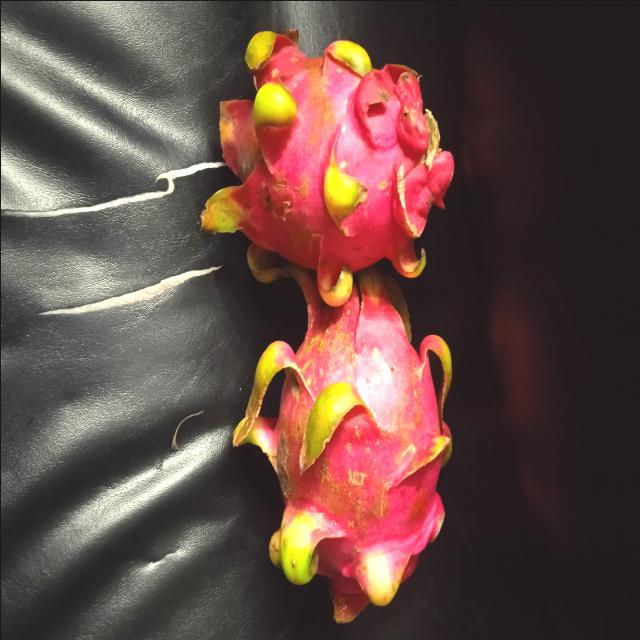do: (232, 266, 456, 630), (204, 29, 456, 272)
